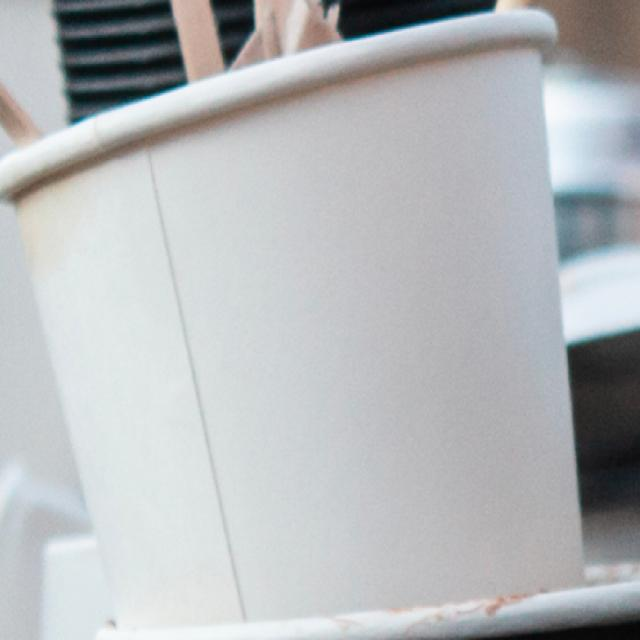plastic cup: (13, 0, 640, 610)
